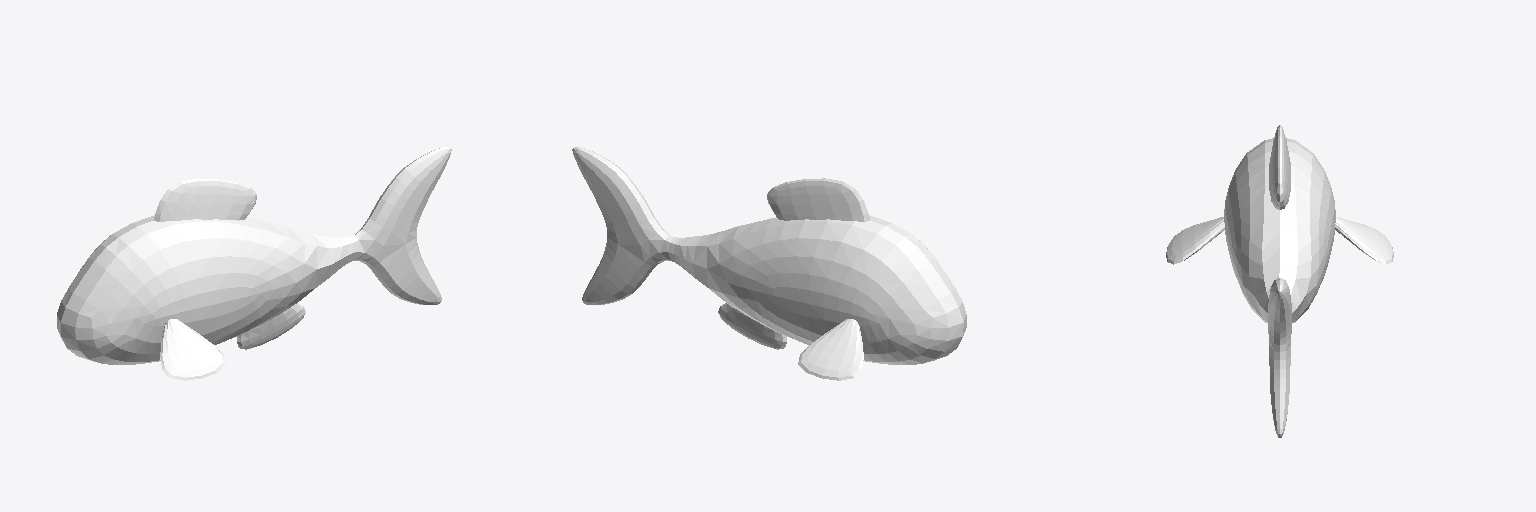
File: white_yellowfish.obj
3 renders of one model, left to right at view 1: azimuth 30°, elevation 25°; view 2: azimuth 150°, elevation 25°; view 3: azimuth 270°, elevation 25°, orthographic.
Parts seen in each view (by area): view 1: obj1; view 2: obj1; view 3: obj1.
Boxes of the visible parts, x1,y1,x2,y2 form: obj1: [57, 147, 451, 380]; obj1: [572, 147, 966, 380]; obj1: [1166, 125, 1393, 437].
Size of the model in its own units: 1.17 by 0.5305 by 0.5915.